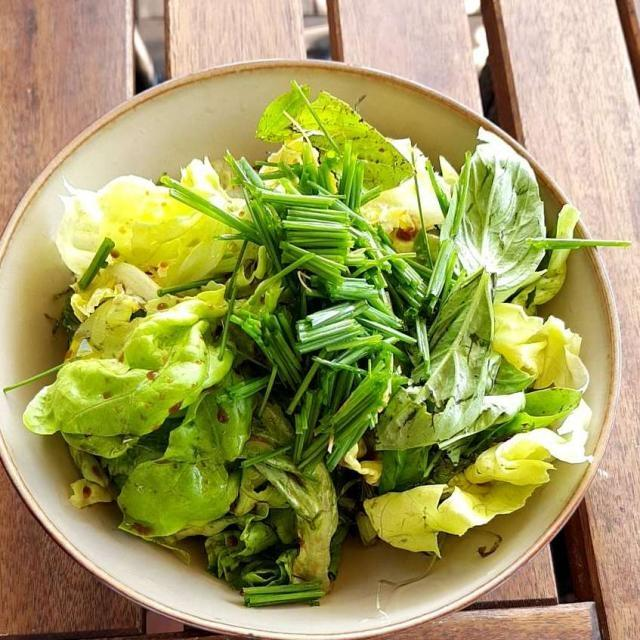chives: (164, 151, 452, 461)
salad: (44, 104, 580, 596)
